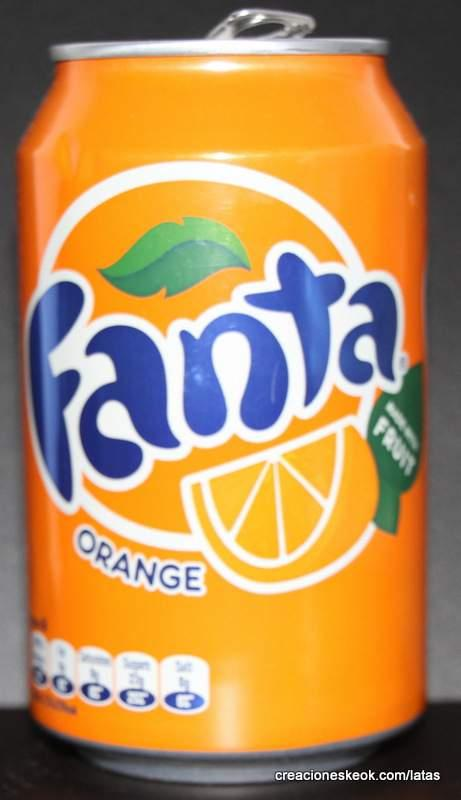metal: (17, 8, 426, 784)
